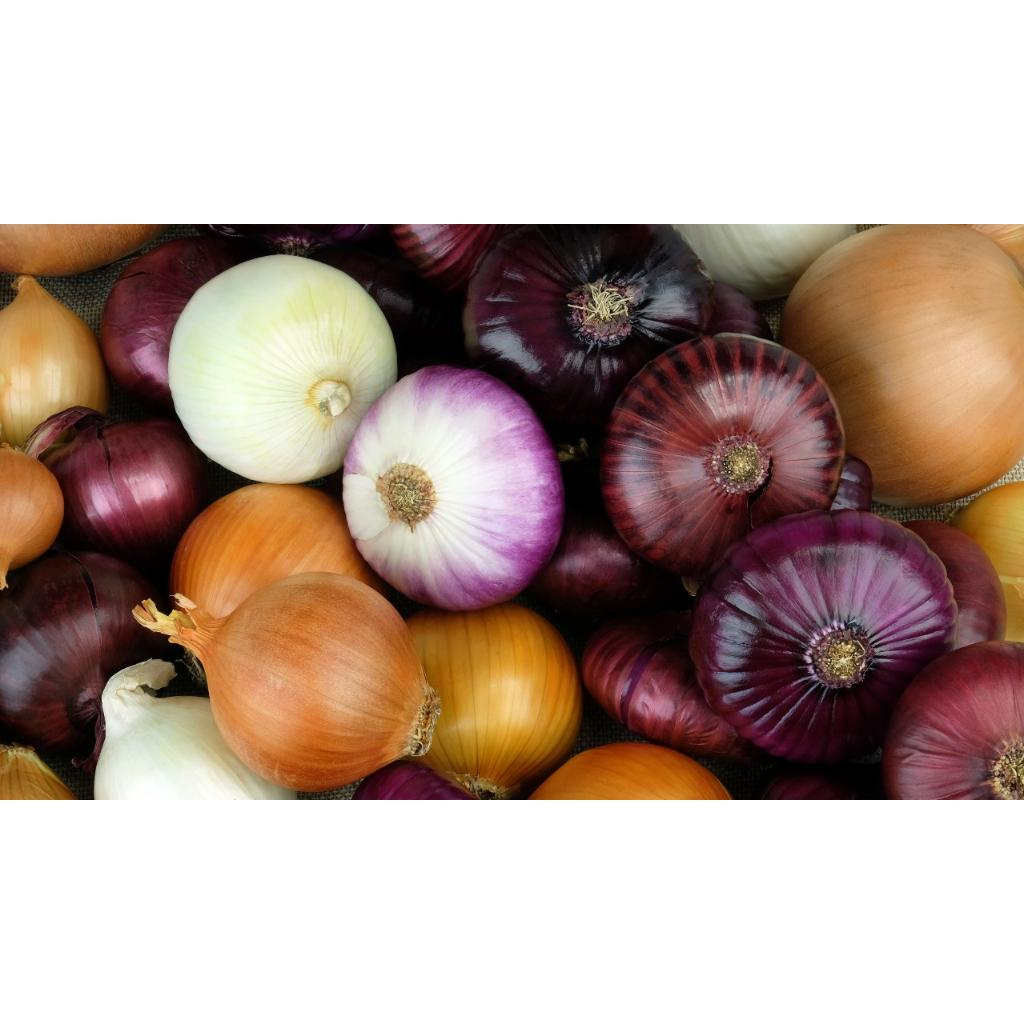Onion: (691, 511, 962, 764), (781, 224, 1024, 505), (132, 571, 441, 791), (601, 333, 846, 577), (343, 365, 564, 610), (168, 254, 396, 483), (463, 225, 715, 425), (0, 551, 171, 774), (406, 603, 583, 799), (22, 405, 208, 570), (170, 484, 388, 618), (94, 660, 295, 800), (583, 612, 763, 762), (99, 235, 239, 412), (885, 641, 1024, 800), (0, 274, 108, 445), (676, 224, 857, 300), (529, 743, 732, 800), (0, 442, 62, 589), (352, 761, 477, 800)
